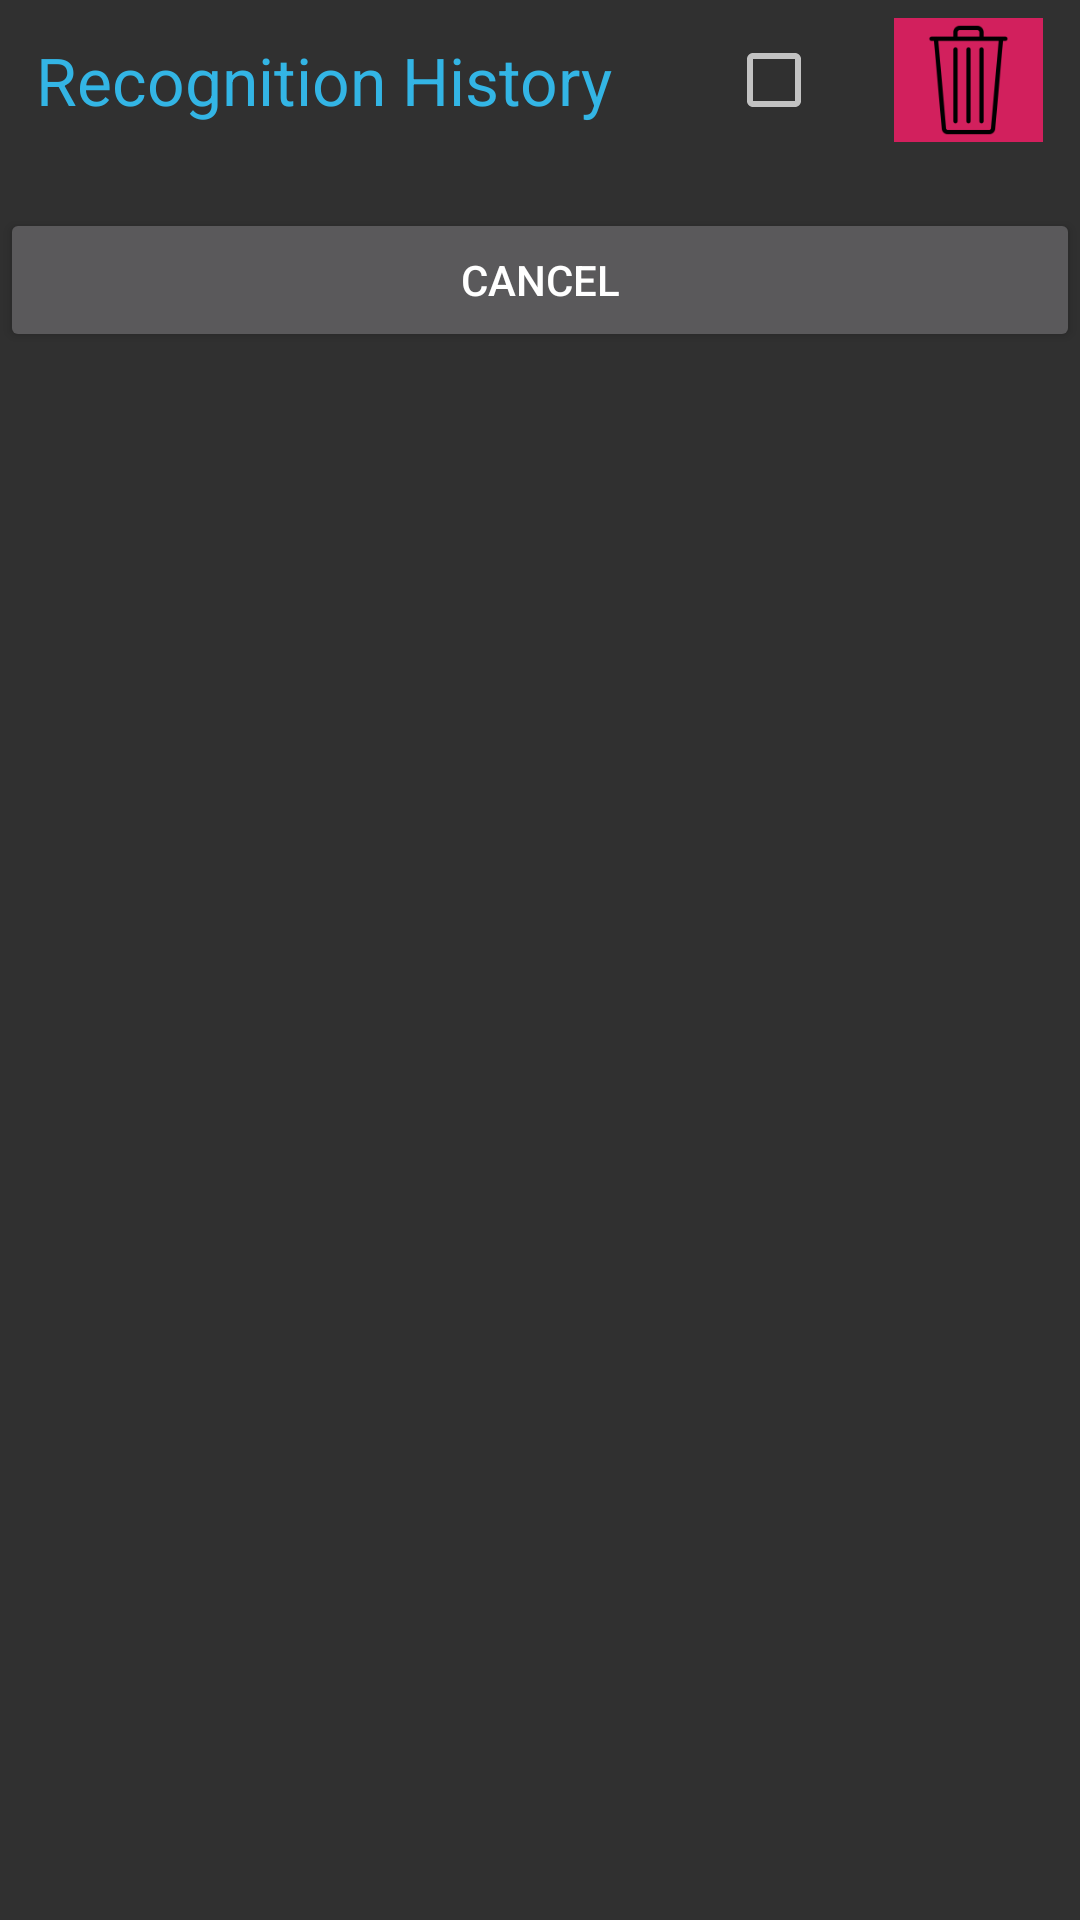

Screen size 1080 × 1920. Icon name, then its center in pixels as [x,y]:
trash: [968,80]
